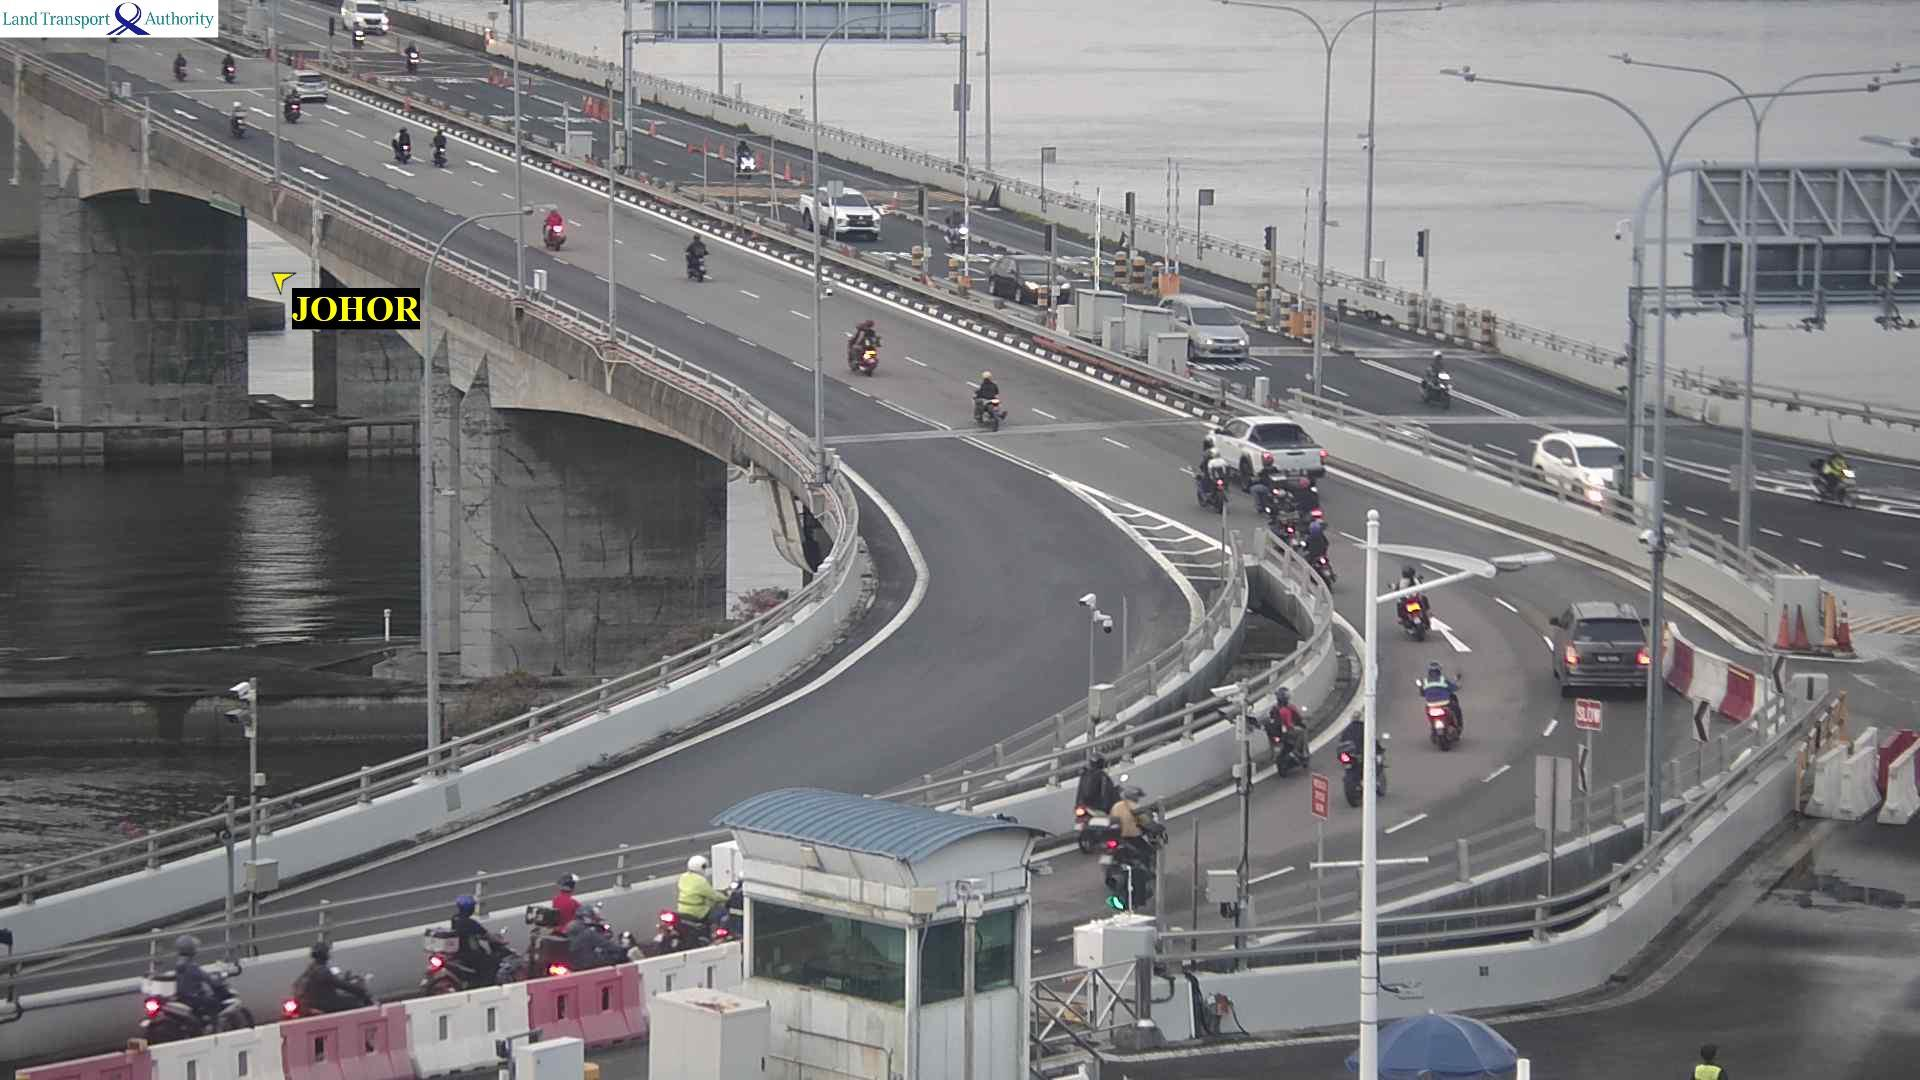vehicle-secondlink-johor: (140, 935, 253, 1040), (1079, 786, 1167, 910), (1548, 600, 1650, 699), (422, 895, 522, 992), (1204, 415, 1328, 493), (655, 855, 740, 952), (541, 907, 646, 975), (282, 942, 376, 1015), (1338, 711, 1393, 808), (1075, 753, 1129, 847), (1416, 662, 1465, 750), (1265, 687, 1311, 775), (1389, 566, 1432, 641), (1192, 436, 1232, 513), (1250, 452, 1292, 512), (1266, 489, 1300, 559), (973, 371, 1009, 434), (1304, 522, 1336, 589), (848, 320, 882, 377), (281, 70, 328, 103), (683, 232, 711, 284), (1295, 477, 1320, 533), (543, 204, 567, 252), (392, 127, 411, 164), (430, 129, 447, 167), (231, 102, 248, 137), (285, 90, 301, 124), (222, 53, 236, 82), (174, 53, 187, 80)
vehicle-secondlink-singapore: (1531, 430, 1648, 510), (1159, 295, 1249, 364), (799, 186, 881, 241), (988, 255, 1071, 306), (1811, 450, 1862, 512), (1420, 351, 1453, 409), (336, 1, 389, 36), (944, 207, 968, 255), (736, 140, 756, 179), (405, 40, 423, 75), (352, 20, 365, 49)
